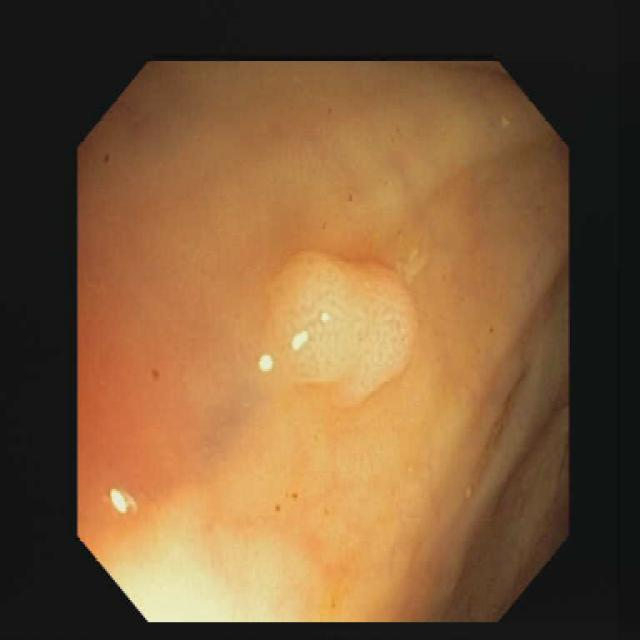tumor: (258, 251, 415, 396)
